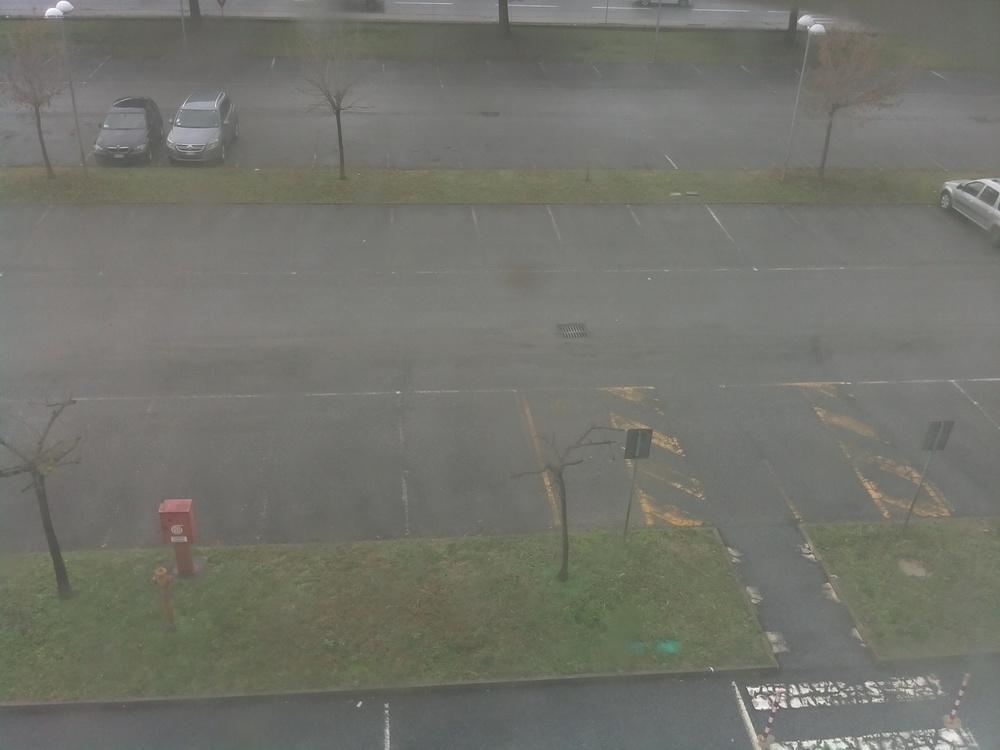empty: (83, 101, 169, 168), (157, 96, 241, 164), (938, 178, 999, 246)
occupied: (396, 383, 551, 542), (268, 380, 411, 544), (133, 392, 273, 552), (6, 394, 137, 559), (900, 381, 1000, 518), (134, 191, 238, 261), (286, 194, 393, 254), (31, 197, 136, 258), (566, 129, 679, 176), (245, 108, 338, 160), (0, 111, 77, 169), (389, 132, 480, 172), (392, 206, 471, 246), (522, 50, 597, 89), (480, 208, 549, 245), (645, 207, 711, 244), (560, 209, 631, 241), (433, 49, 490, 87), (726, 210, 791, 241)
